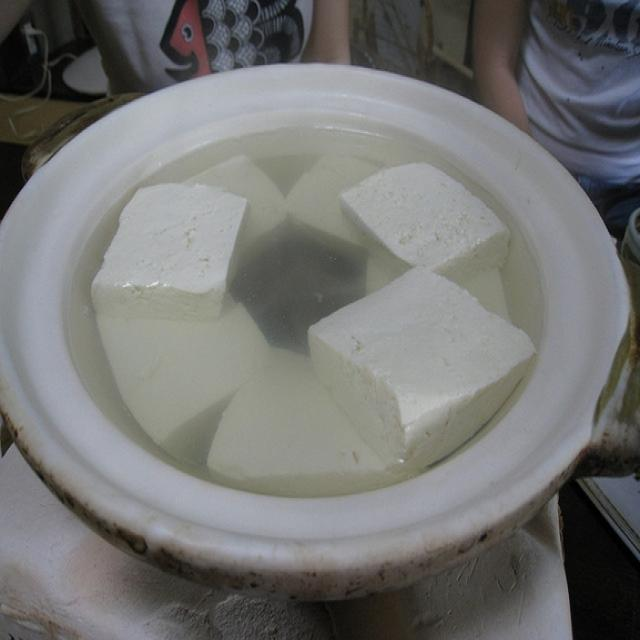豆腐料理: (5, 54, 628, 598)
